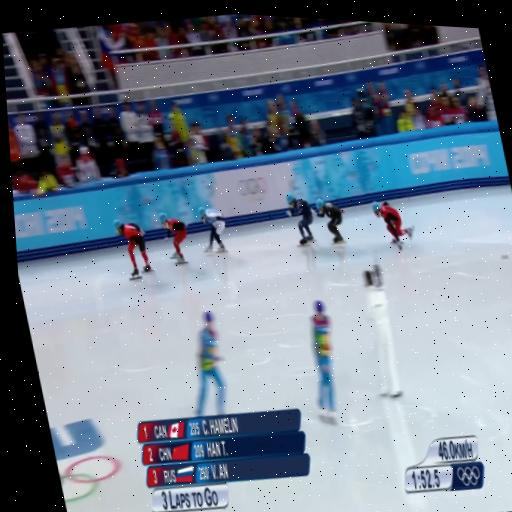Skater: (114, 220, 153, 279), (372, 202, 414, 250), (287, 192, 314, 245), (160, 212, 187, 264), (316, 198, 345, 244), (199, 207, 226, 252)
